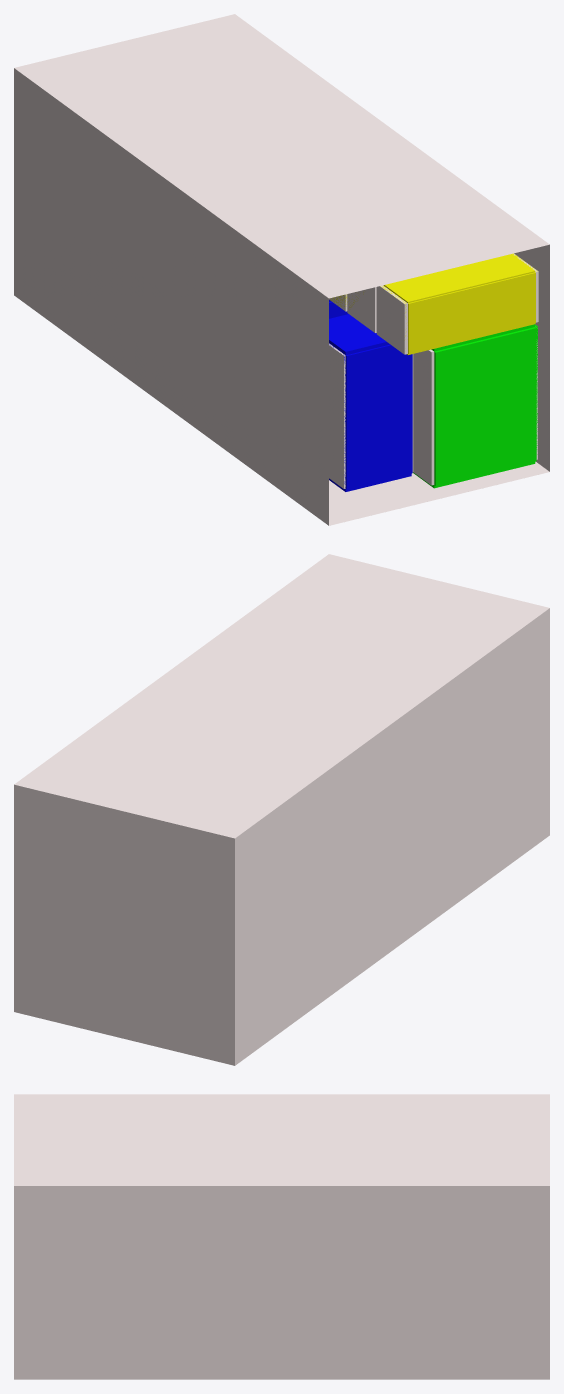
File: dryrun13.fbx
3 views of the same model, one above another, from view 1: azimuth 30°, elevation 25°; view 2: azimuth 150°, elevation 25°; view 3: azimuth 270°, elevation 25° (orthographic). The views are drawn at different scales.
Visible parts, largest first — view 1: bintop, BinIso20Bottom, binleft, front_3, front_5, front_12, binbottom, top_12, top_5; view 2: BinIso20Bottom, bintop, binback; view 3: BinIso20Bottom, binright, bintop.
Boxes of the visible parts, x1,y1,x2,y2 form: bintop: (14, 14, 549, 298); BinIso20Bottom: (14, 74, 549, 525); binleft: (14, 68, 324, 515); front_3: (434, 327, 536, 485); front_5: (345, 344, 412, 489); front_12: (408, 272, 535, 354); binbottom: (329, 461, 549, 525); top_12: (383, 254, 535, 303); top_5: (329, 314, 390, 355); BinIso20Bottom: (235, 608, 549, 1065); bintop: (14, 554, 549, 838); binback: (14, 784, 234, 1065); BinIso20Bottom: (14, 1186, 549, 1379); binright: (14, 1192, 549, 1379); bintop: (14, 1094, 549, 1185).
Size of the model in its own units: 2390 by 2350 by 5900.
